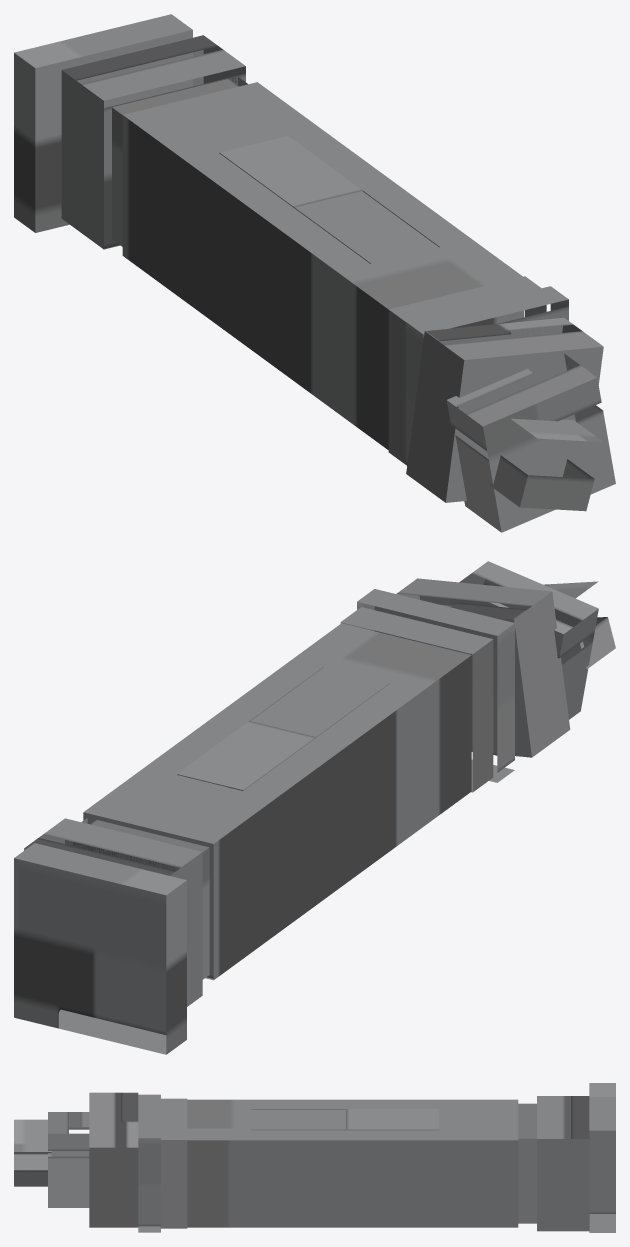
The picture shows the model from 3 angles, top to bottom: view 1: azimuth 30°, elevation 25°; view 2: azimuth 150°, elevation 25°; view 3: azimuth 270°, elevation 25°; orthographic projection. The views are drawn at different scales.
Size of the model in its own units: 0.275 by 0.255 by 1.36.
